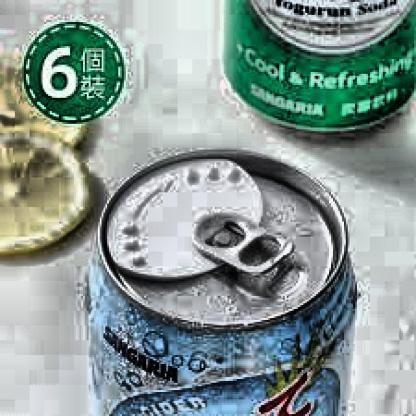Can: (74, 142, 364, 416), (220, 0, 416, 136)
